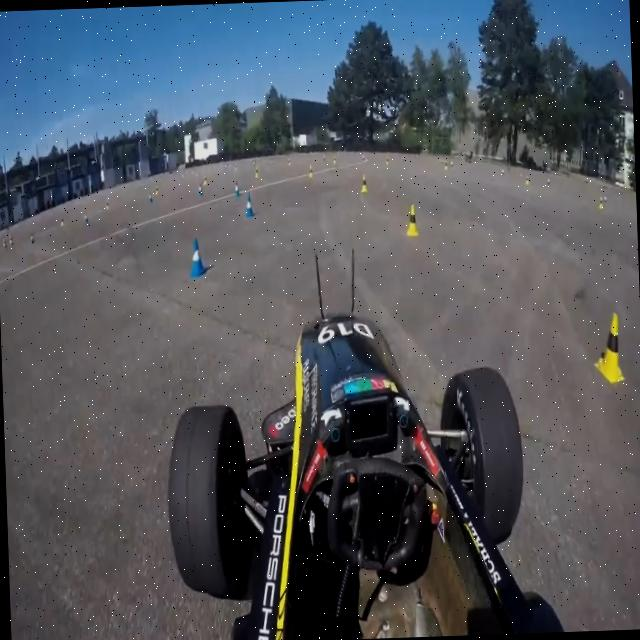blue_cone: (189, 236, 207, 278), (244, 192, 254, 219), (233, 179, 240, 197)
yellow_cone: (593, 312, 624, 384), (406, 202, 420, 236), (360, 174, 368, 192)
